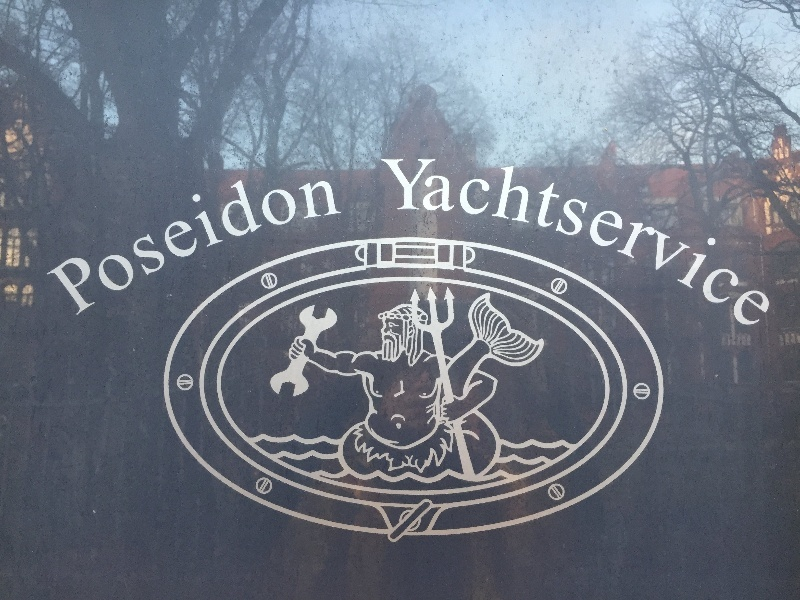text: (385, 131, 400, 334), (401, 131, 416, 334), (417, 131, 432, 334), (433, 131, 448, 334), (449, 131, 464, 334), (465, 131, 480, 334), (481, 131, 496, 334), (497, 131, 512, 334), (513, 131, 528, 334), (529, 131, 544, 334), (545, 131, 560, 334), (561, 131, 576, 334), (577, 131, 592, 334), (593, 131, 608, 334), (609, 131, 624, 334), (625, 131, 640, 334), (641, 131, 656, 334), (657, 131, 672, 334), (673, 131, 688, 334), (689, 131, 704, 334), (705, 131, 720, 334), (721, 131, 736, 334), (737, 131, 752, 334), (753, 131, 768, 334), (49, 138, 64, 319), (65, 138, 80, 319), (81, 138, 96, 319), (97, 138, 112, 319), (113, 138, 128, 319), (129, 138, 144, 319), (145, 138, 160, 319), (161, 138, 176, 319), (177, 138, 192, 319), (193, 138, 208, 319), (209, 138, 224, 319), (225, 138, 240, 319), (241, 138, 256, 319), (257, 138, 272, 319), (273, 138, 288, 319), (289, 138, 304, 319), (305, 138, 320, 319), (321, 138, 336, 319), (39, 138, 48, 319), (337, 138, 343, 319), (379, 131, 384, 334), (769, 131, 770, 334)
